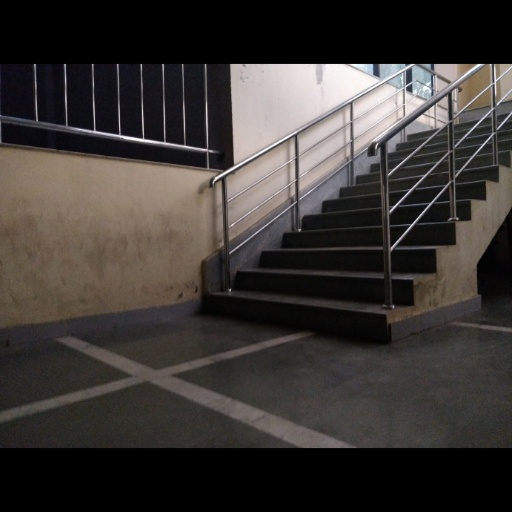Stairs: (205, 104, 512, 341)
